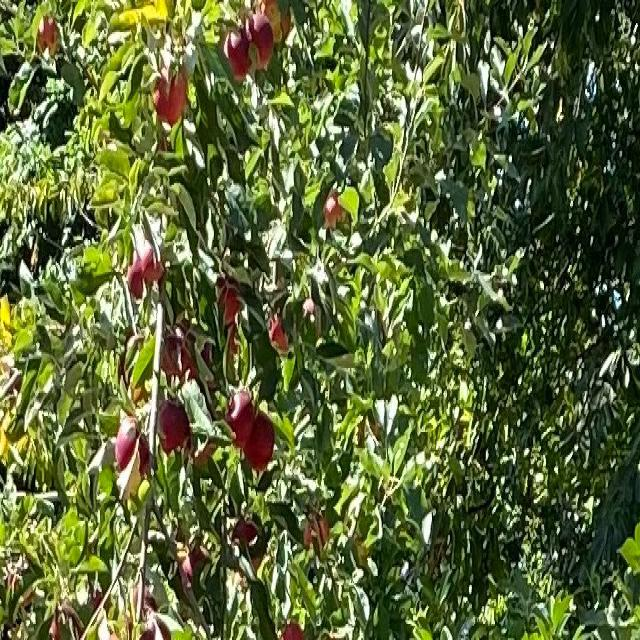Apples: (161, 326, 204, 374), (243, 412, 275, 468), (154, 67, 186, 121), (115, 425, 149, 473), (159, 402, 190, 452), (245, 14, 273, 66), (229, 391, 252, 445), (224, 32, 250, 78), (233, 519, 261, 560), (217, 281, 240, 323), (182, 544, 208, 581), (131, 586, 158, 620), (304, 514, 329, 549), (38, 16, 59, 55), (140, 614, 173, 638), (269, 316, 290, 351), (142, 249, 163, 279), (324, 192, 341, 226), (128, 259, 143, 297), (284, 620, 305, 638)
